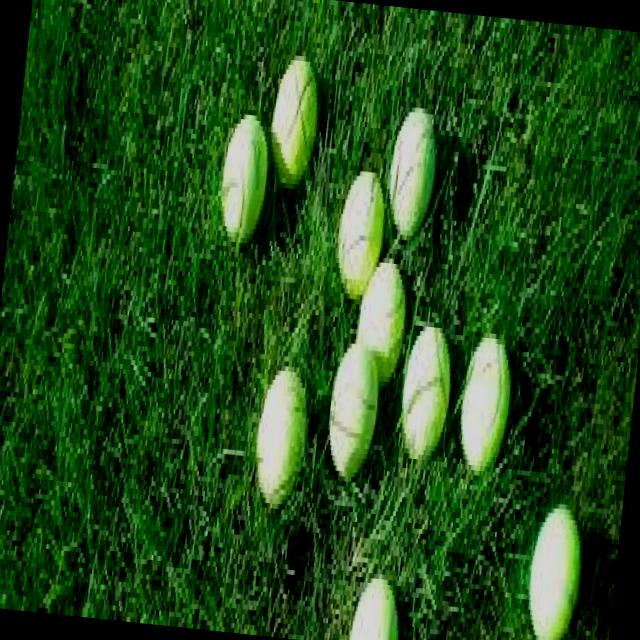tennis-ball: (454, 328, 518, 474), (251, 364, 313, 506), (397, 324, 456, 464), (525, 505, 585, 640), (324, 341, 383, 474), (384, 105, 442, 238), (265, 54, 323, 184), (332, 172, 388, 296), (354, 258, 408, 386), (218, 116, 272, 241), (346, 575, 404, 640)
